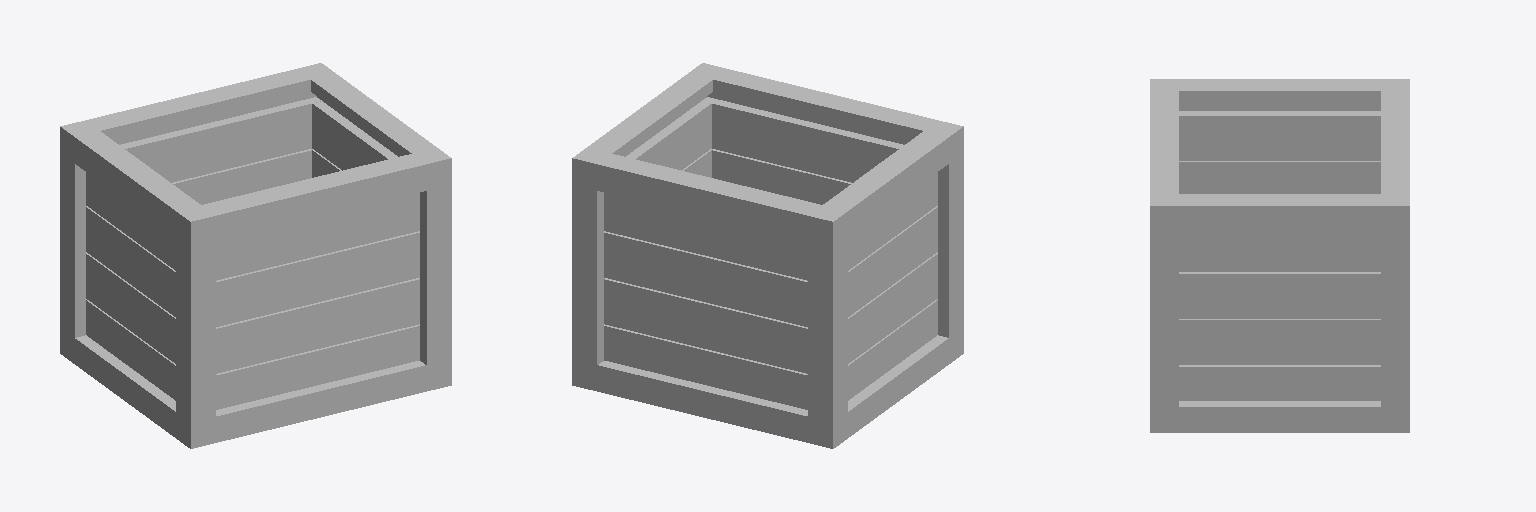
The model's file is crate.obj.
The picture shows the model from 3 angles: view 1: azimuth 30°, elevation 25°; view 2: azimuth 150°, elevation 25°; view 3: azimuth 270°, elevation 25°; orthographic projection.
Visible parts, largest first — view 1: crates_Smallfullopen_LOD0; view 2: crates_Smallfullopen_LOD0; view 3: crates_Smallfullopen_LOD0.
Part boxes in pixels (x1,y1,x2,y2): crates_Smallfullopen_LOD0: (60,63,451,448); crates_Smallfullopen_LOD0: (572,63,963,448); crates_Smallfullopen_LOD0: (1150,79,1409,432).
Size of the model in its own units: 196 by 163 by 170.